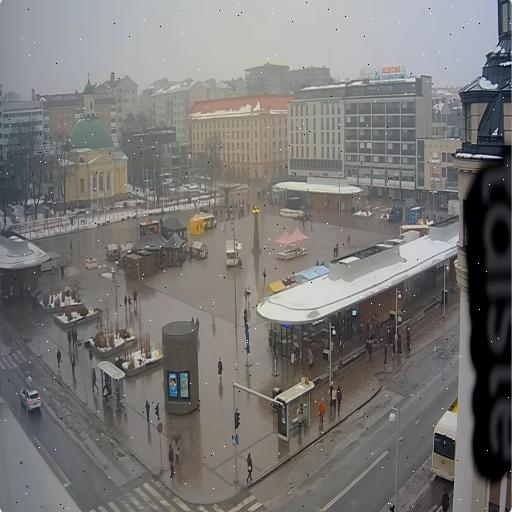bus: (431, 398, 457, 481)
